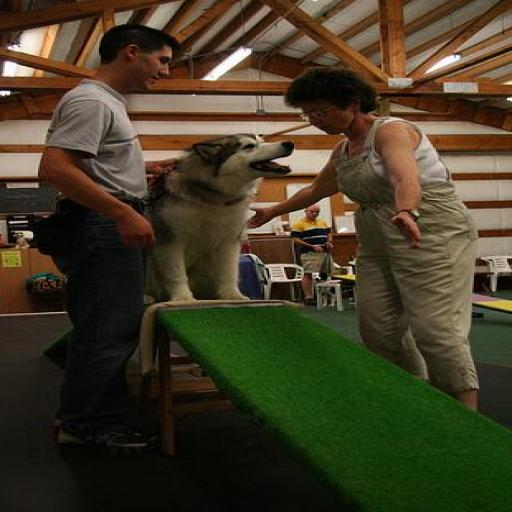dog_face: (190, 126, 320, 189)
